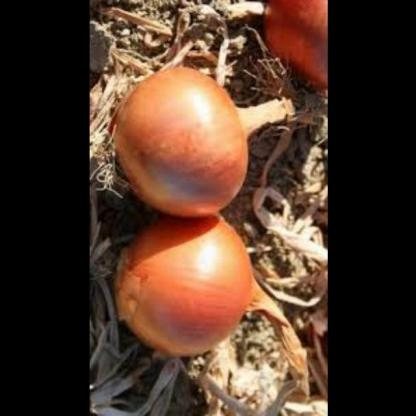onion: (112, 61, 255, 221), (117, 204, 265, 356), (254, 0, 328, 82)
